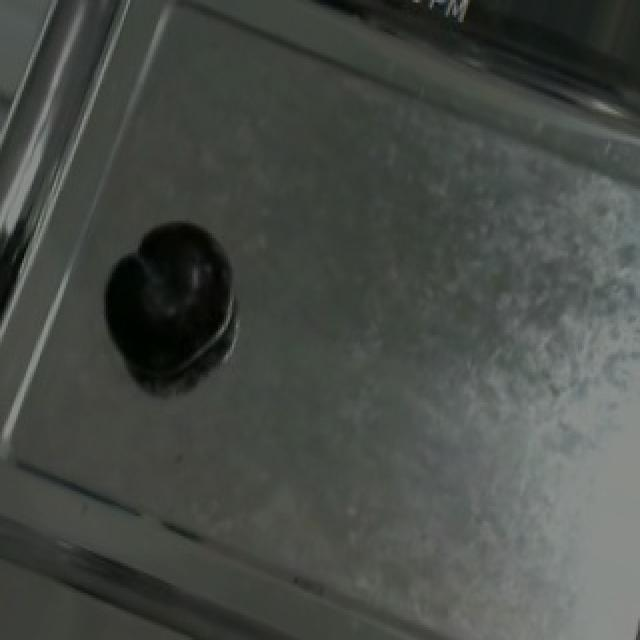Fruit: (80, 201, 250, 392)
